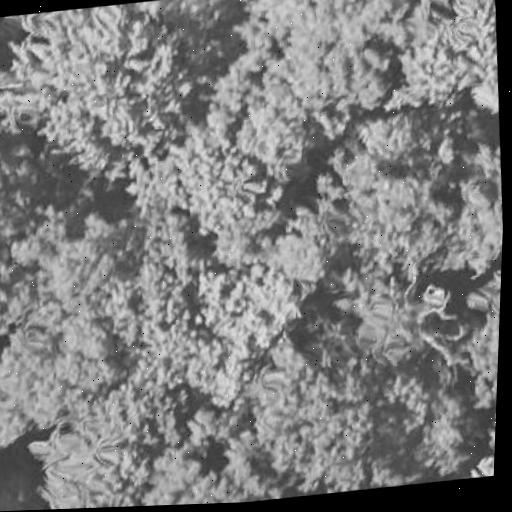tree-top: (35, 0, 201, 176), (237, 318, 379, 499), (322, 138, 465, 276), (22, 386, 157, 510), (328, 256, 465, 373), (280, 0, 407, 122), (387, 0, 504, 124), (181, 252, 294, 350), (33, 211, 126, 311), (174, 139, 272, 227), (444, 143, 506, 271), (402, 388, 482, 480), (271, 195, 346, 281), (0, 99, 40, 228)
